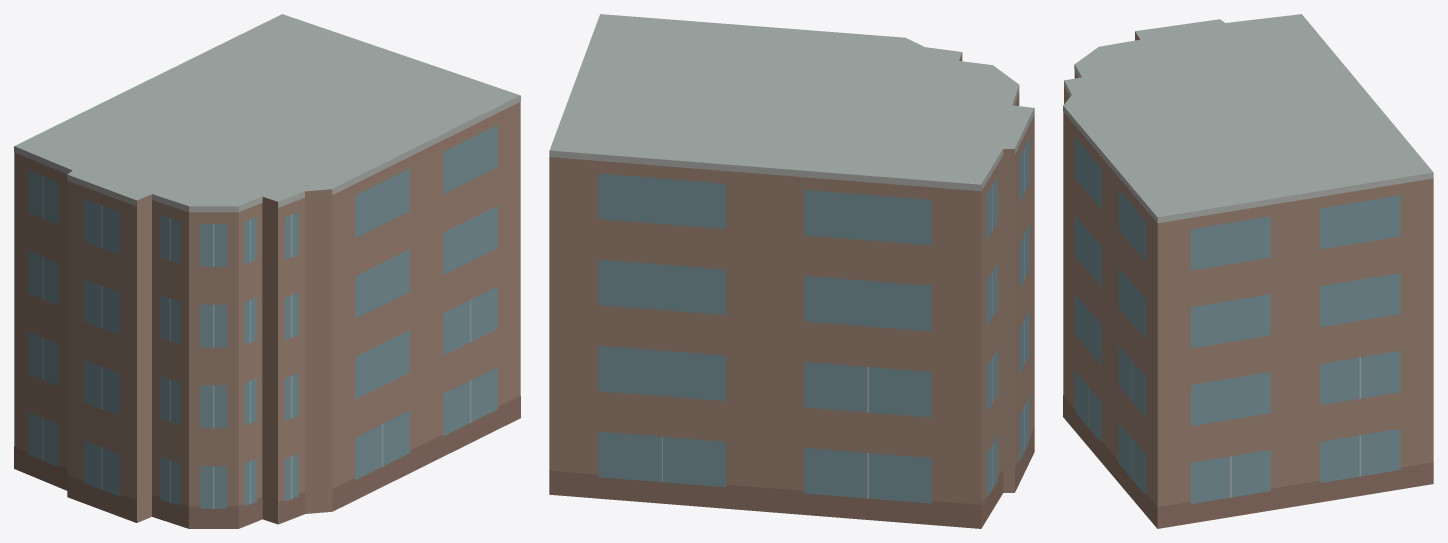
The model's file is survey-upis-32523354.glb.
3 views of the same model, side by side, from view 1: azimuth 30°, elevation 25°; view 2: azimuth 150°, elevation 25°; view 3: azimuth 270°, elevation 25° (orthographic). The views are drawn at different scales.
Visible parts, largest first — view 1: survey-upis-32523354.tmp; view 2: survey-upis-32523354.tmp; view 3: survey-upis-32523354.tmp.
Boxes of the visible parts, x1=… form: survey-upis-32523354.tmp: x1=14, y1=14, x2=520, y2=528; survey-upis-32523354.tmp: x1=549, y1=14, x2=1034, y2=528; survey-upis-32523354.tmp: x1=1063, y1=14, x2=1433, y2=528.
Size of the model in its own units: 18.08 by 12.9 by 13.92.
